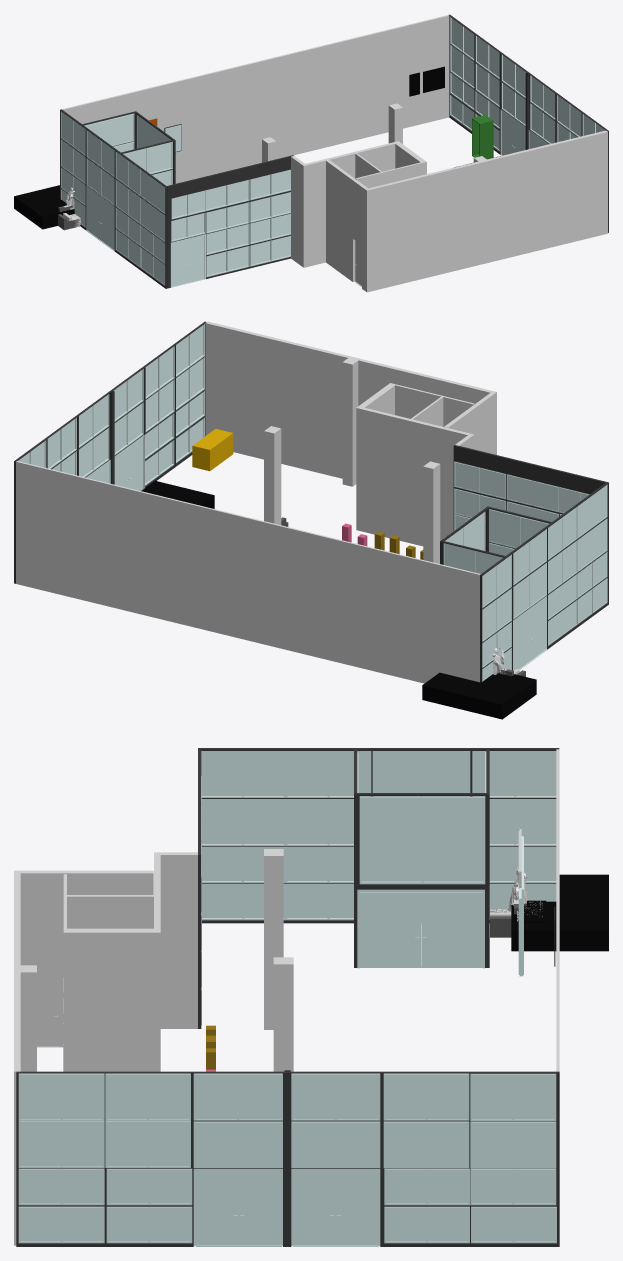
The picture shows the model from 3 angles, top to bottom: view 1: azimuth 30°, elevation 25°; view 2: azimuth 150°, elevation 25°; view 3: azimuth 270°, elevation 25°; orthographic projection. The views are drawn at different scales.
Parts seen in each view (by area): view 1: IfcWall/Wall.007, IfcWall/Wall.008, IfcWall/Wall.010, IfcWall/Wall.011, IfcWall/Wall.013, IfcWall/Wall.009, IfcWall/Wall.006, IfcWall/Wall.012, IfcDoor/Door.006, IfcFurnitureType/Generic Large Desk, IfcDoor/Door.007, IfcWindow/Window.032 (+44 smaller); view 2: IfcWall/Wall.007, IfcWall/Wall.008, IfcWall/Wall.013, IfcFurnitureType/Generic Large Desk, IfcWall/Wall.011, IfcWall/Wall.012, IfcWall/Wall.006, IfcColumn/Column.001, IfcDoor/Door.007, IfcColumn/Column, IfcColumn/Column.002, IfcWall/Wall.010 (+38 smaller); view 3: IfcWall/Wall.001, IfcWindow/Window.022, IfcDoor/Door.003, IfcWall/Wall.012, IfcDoor/Door.004, IfcDoor/Door.005, IfcWall/Wall.010, IfcWall/Wall.009, IfcFurnitureType/Generic Large Desk, IfcWindow/Window.034, IfcWindow/Window.036, IfcWindow/Window.033 (+42 smaller).
Part boxes in pixels (x1,y1,x2,y2): IfcWall/Wall.007: (62,15,449,183); IfcWall/Wall.008: (365,130,607,292); IfcWall/Wall.010: (326,160,367,290); IfcWall/Wall.011: (167,155,293,288); IfcWall/Wall.013: (305,141,399,266); IfcWall/Wall.009: (291,156,307,267); IfcWall/Wall.006: (60,109,167,288); IfcWall/Wall.012: (449,14,608,232); IfcDoor/Door.006: (170,234,205,287); IfcFurnitureType/Generic Large Desk: (14,185,74,229); IfcDoor/Door.007: (86,185,114,250); IfcWindow/Window.032: (84,113,134,146); IfcWall/Wall.007: (16,461,480,683); IfcWall/Wall.008: (205,321,496,478); IfcWall/Wall.013: (356,406,469,546); IfcFurnitureType/Generic Large Desk: (422,672,536,719); IfcWall/Wall.011: (453,445,606,547); IfcWall/Wall.012: (14,321,206,583); IfcWall/Wall.006: (480,482,608,682); IfcColumn/Column.001: (342,357,359,486); IfcDoor/Door.007: (513,595,547,670); IfcColumn/Column: (423,461,440,563); IfcColumn/Column.002: (264,426,281,525); IfcWall/Wall.010: (444,392,494,454); IfcWall/Wall.001: (67,928,153,1071); IfcWindow/Window.022: (359,796,485,884); IfcDoor/Door.003: (357,889,484,968); IfcWall/Wall.012: (16,1071,559,1246); IfcDoor/Door.004: (291,1169,380,1246); IfcDoor/Door.005: (193,1169,282,1246); IfcWall/Wall.010: (20,870,153,1047); IfcWall/Wall.009: (154,852,197,1028); IfcFurnitureType/Generic Large Desk: (511,874,608,951); IfcWindow/Window.034: (291,1073,380,1120); IfcWindow/Window.036: (193,1073,282,1120); IfcWindow/Window.033: (291,1121,380,1168).
Size of the model in its own units: 25.11 by 5.8 by 17.96.
